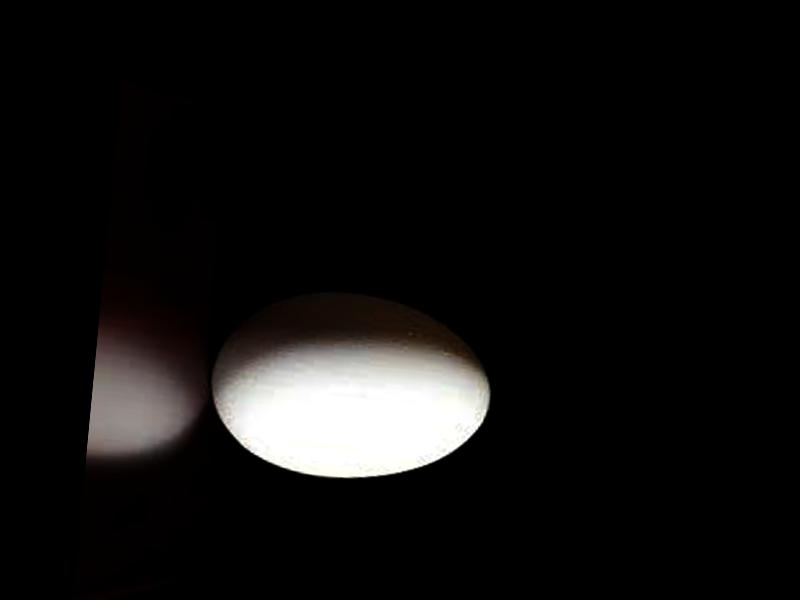Eggs: (202, 282, 498, 491)
